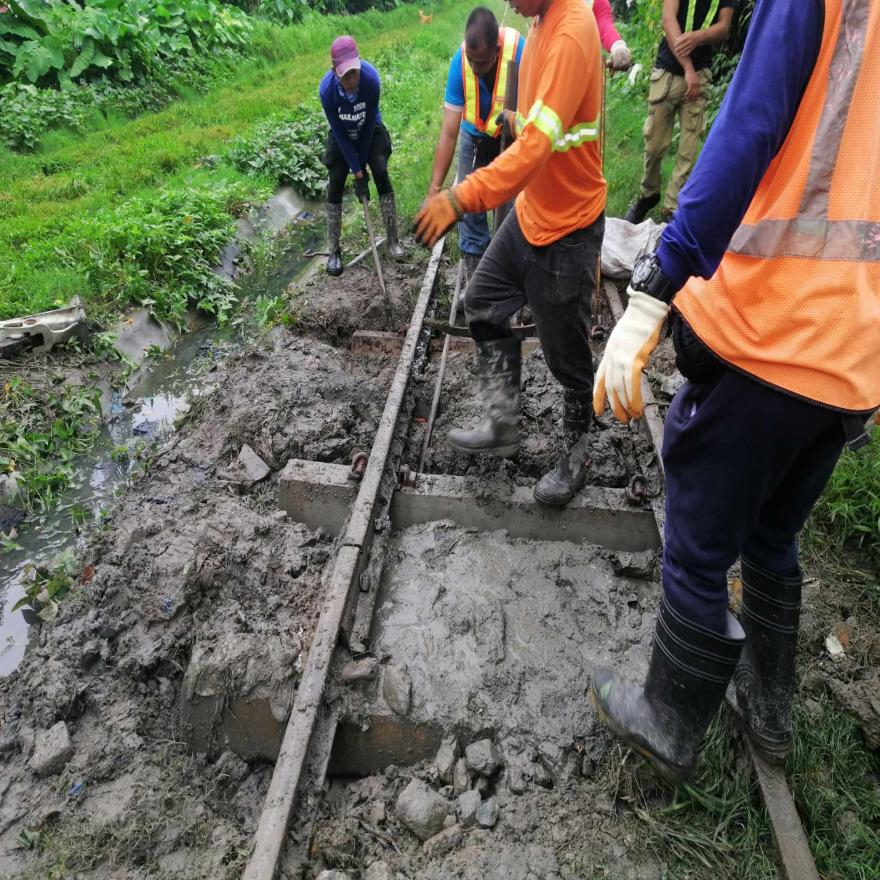railway-gap: (319, 502, 381, 581)
